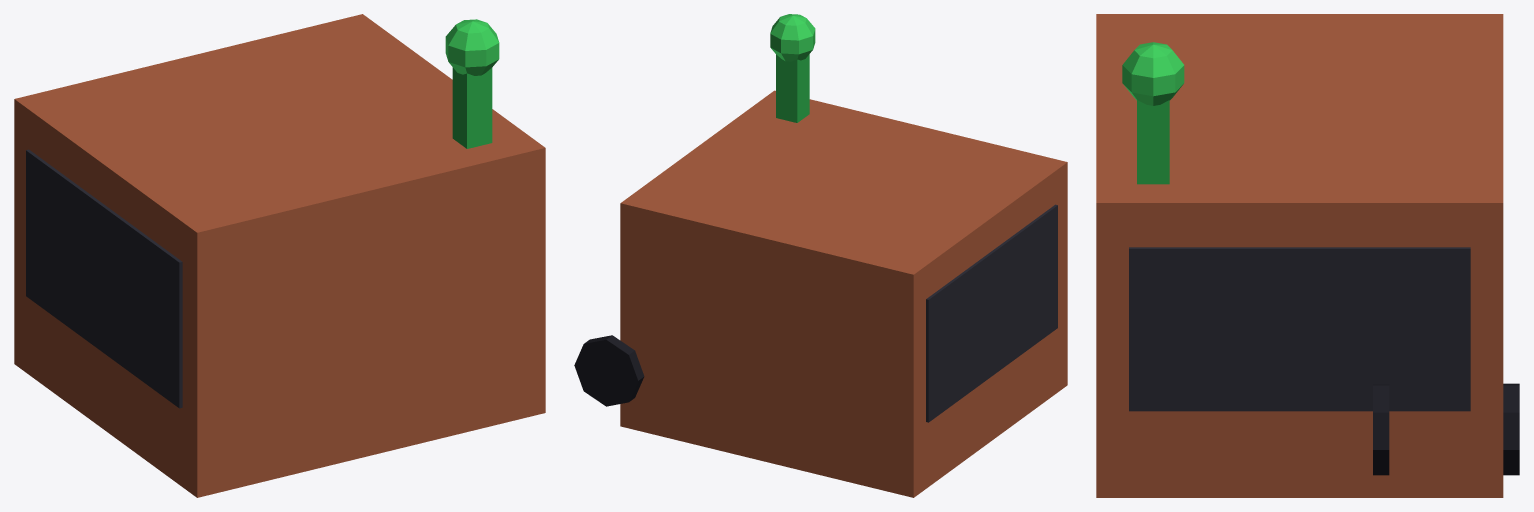
Rendered from prefab_loft.glb.
3 renders of one model, left to right at view 1: azimuth 30°, elevation 25°; view 2: azimuth 150°, elevation 25°; view 3: azimuth 270°, elevation 25°, orthographic. The views are drawn at different scales.
Visible parts, largest first — view 1: p_box.4343, p_box.4344, p_box.4345, p_sph.1033; view 2: p_box.4343, p_box.4344, p_cyl.876, p_box.4345, p_sph.1033; view 3: p_box.4343, p_box.4344, p_sph.1033, p_box.4345, p_cyl.876, p_cyl.875.
Part boxes in pixels (x1,y1,x2,y2): p_box.4343: (14, 14, 545, 497); p_box.4344: (26, 149, 182, 408); p_box.4345: (452, 67, 492, 148); p_sph.1033: (445, 19, 499, 75); p_box.4343: (620, 90, 1067, 497); p_box.4344: (926, 204, 1057, 422); p_cyl.876: (574, 335, 644, 406); p_box.4345: (776, 54, 809, 122); p_sph.1033: (770, 14, 815, 61); p_box.4343: (1096, 14, 1503, 497); p_box.4344: (1129, 247, 1470, 411); p_sph.1033: (1122, 42, 1184, 105); p_box.4345: (1137, 100, 1169, 184); p_cyl.876: (1503, 383, 1519, 475); p_cyl.875: (1373, 384, 1389, 475).
Size of the model in its own units: 1.51 by 1.39 by 1.25.
